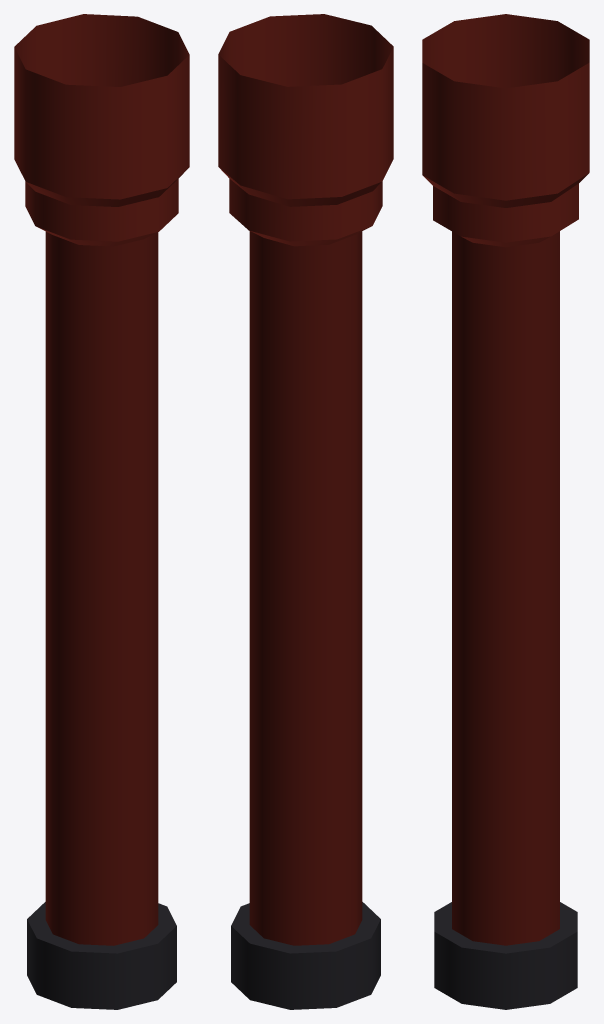
The model's file is column4.fbx.
3 renders of one model, left to right at view 1: azimuth 30°, elevation 25°; view 2: azimuth 150°, elevation 25°; view 3: azimuth 270°, elevation 25°, orthographic.
Visible parts, largest first — view 1: column4; view 2: column4; view 3: column4.
Boxes of the visible parts, bbox=[...] form: column4: bbox=[14, 14, 189, 1009]; column4: bbox=[218, 14, 393, 1009]; column4: bbox=[422, 14, 589, 1009].
Size of the model in its own units: 76.4 by 444 by 72.66.
